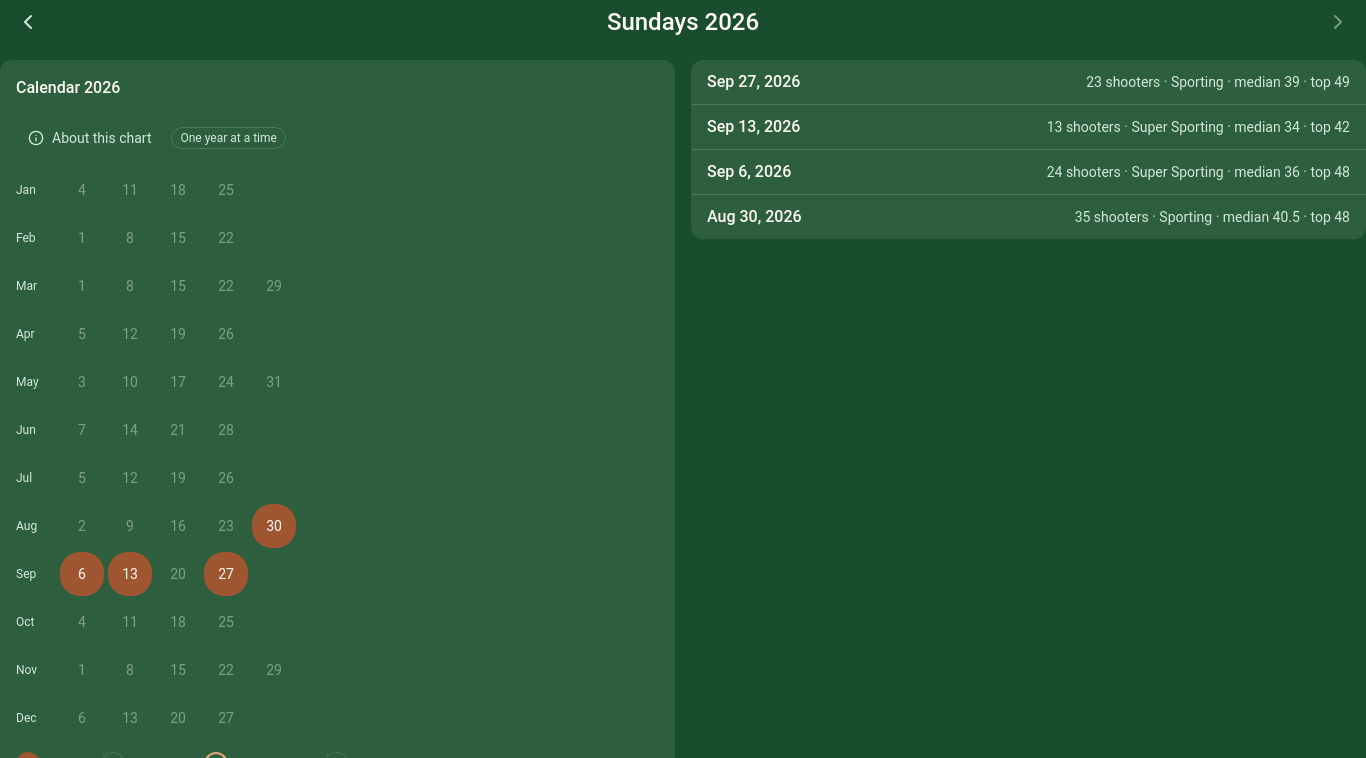
Test: EventsPage › explains the calendar and says the year arrows set its period
Click the button "About this chart" at (90, 138), box [16,116,164,160]
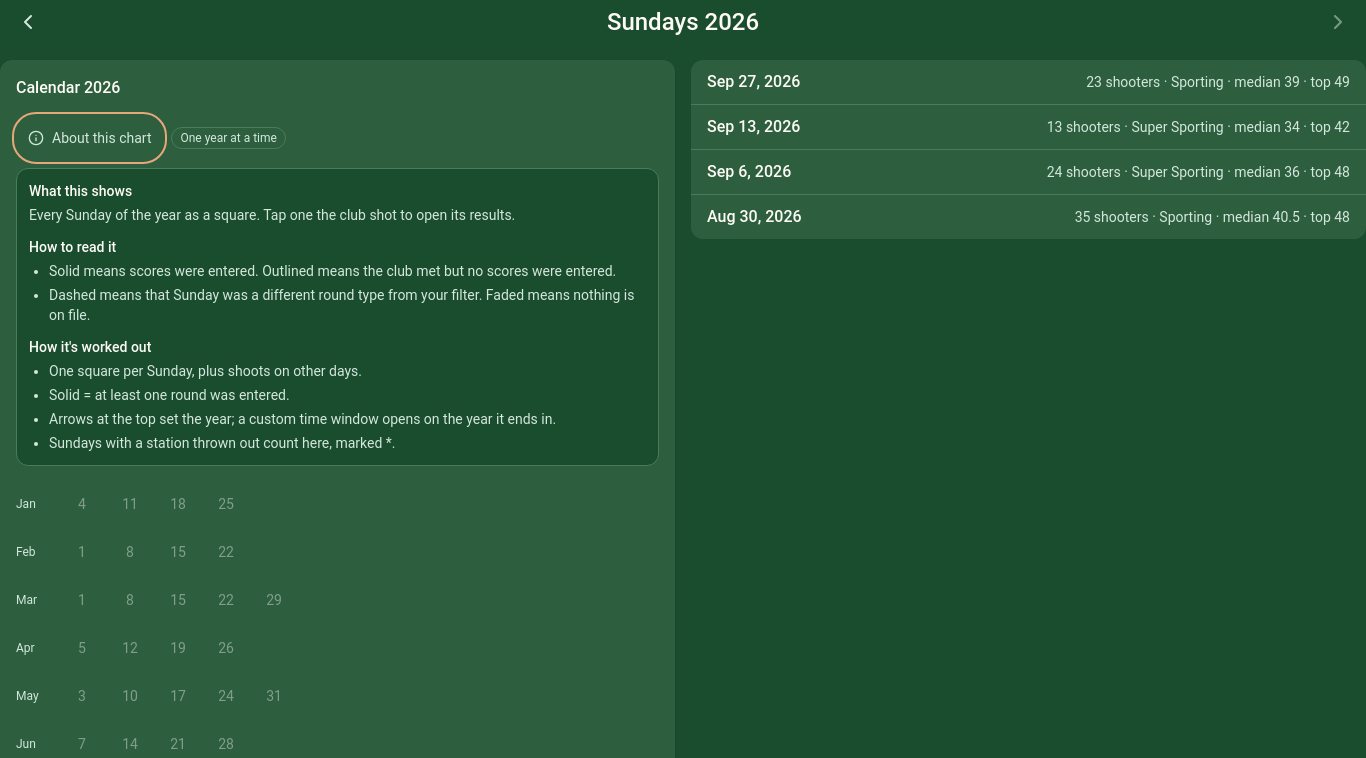
Check: the button "About this chart" is expanded
Check: the heading "What this shows" is shown, box [29,183,132,199]
Check: the heading "How it's worked out" is shown, box [29,339,151,355]
Click the button "About this chart" at (90, 138), box [16,116,164,160]
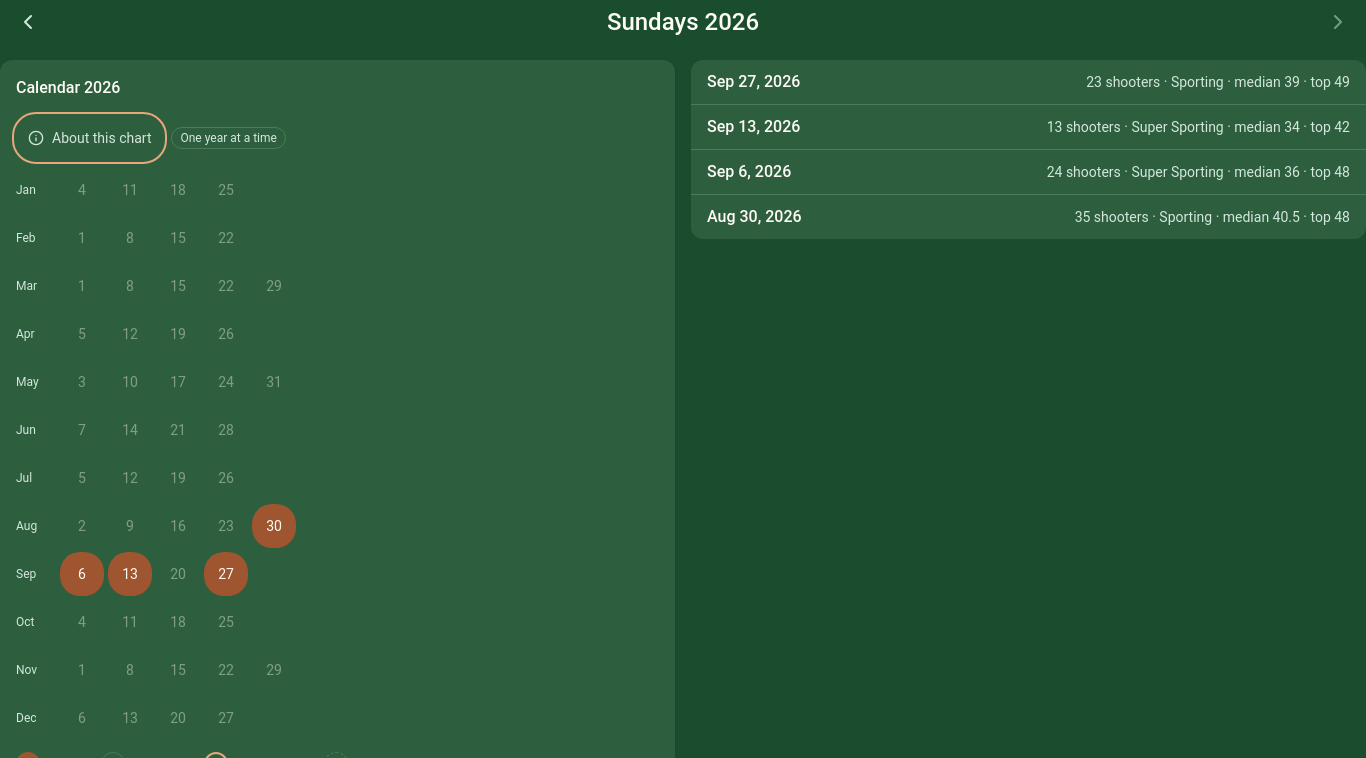
Check: the button "One year at a time" is shown, box [172,127,286,149]
Check: the heading "What this shows" is gone
